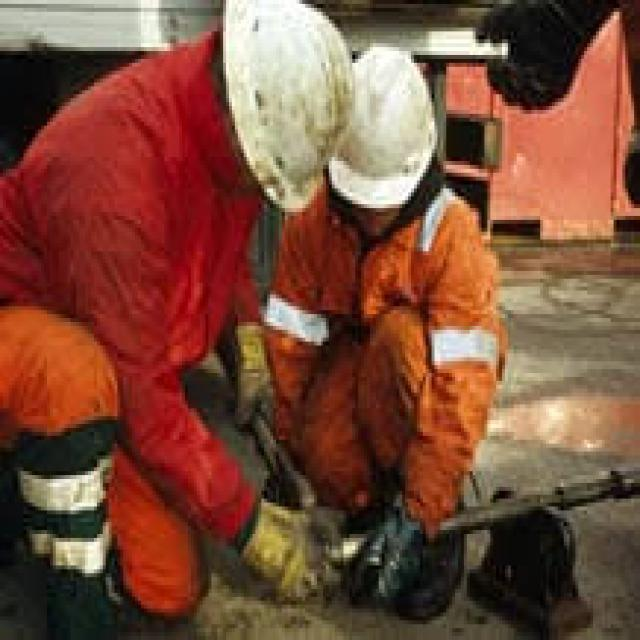Reflective-Jacket: (282, 193, 520, 526), (0, 290, 141, 600)
Safety-Helmet: (203, 0, 361, 224), (326, 31, 461, 216)
